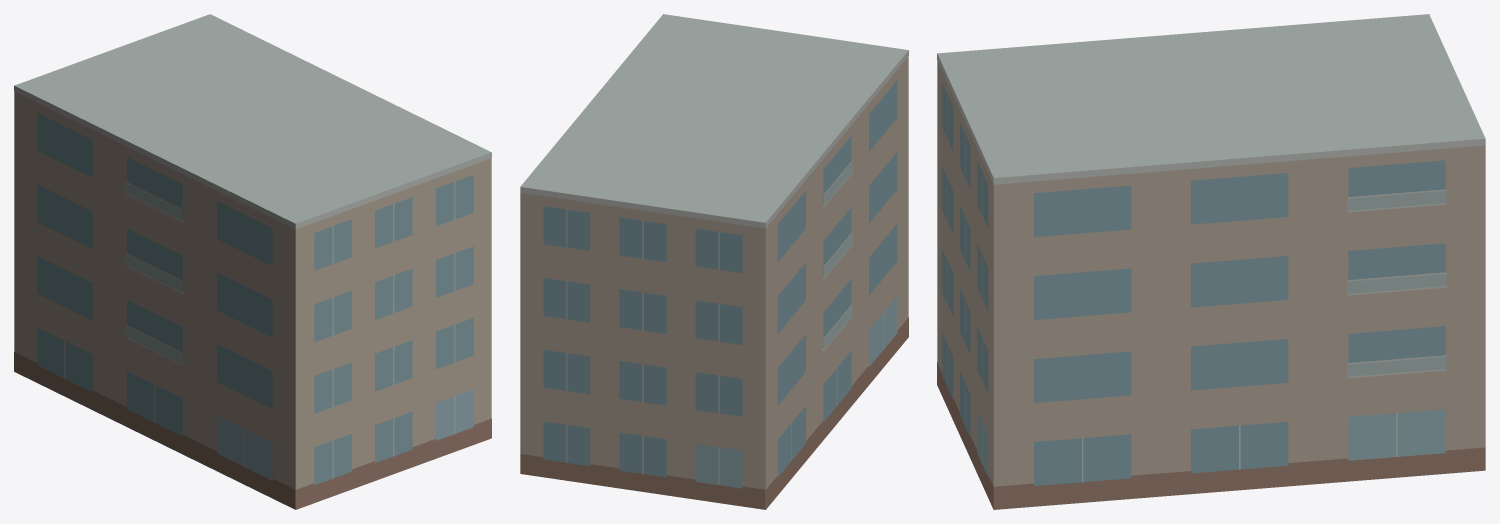
Rendered from survey-upis-32697699.glb.
The picture shows the model from 3 angles, left to right: view 1: azimuth 30°, elevation 25°; view 2: azimuth 150°, elevation 25°; view 3: azimuth 270°, elevation 25°; orthographic projection. The views are drawn at different scales.
Parts seen in each view (by area): view 1: survey-upis-32697699.tmp; view 2: survey-upis-32697699.tmp; view 3: survey-upis-32697699.tmp.
Boxes of the visible parts, bbox=[...] form: survey-upis-32697699.tmp: bbox=[14, 14, 491, 509]; survey-upis-32697699.tmp: bbox=[520, 14, 908, 509]; survey-upis-32697699.tmp: bbox=[937, 14, 1485, 509].
Size of the model in its own units: 12.95 by 12.2 by 18.29.
